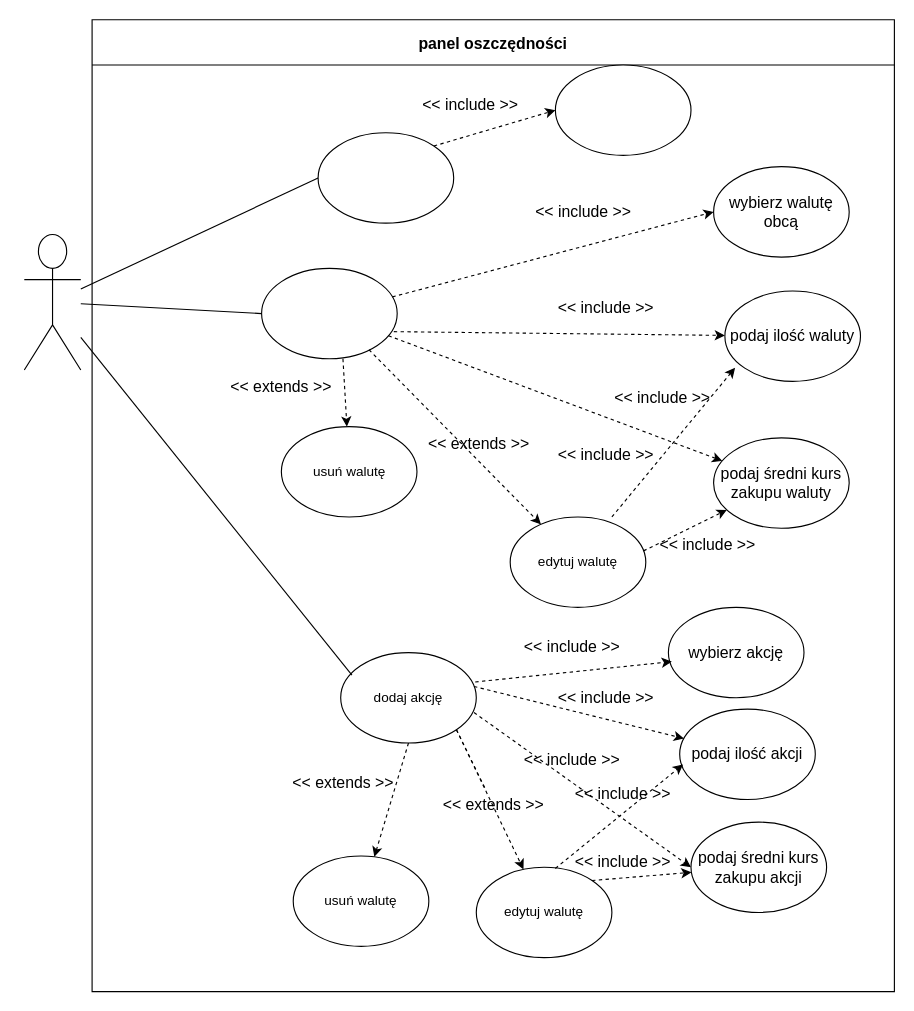
This 914x1011 diagram has some shape labels left out. The shapes that lost their labels are listed below. From the top down, each one's centre as x and y in pixels, then its label:
the point at 622,109: podaj nową ilość gotówki
the point at 385,177: edytuj gotówkę
the point at 52,301: użytkownik
the point at 328,313: dodaj walutę
